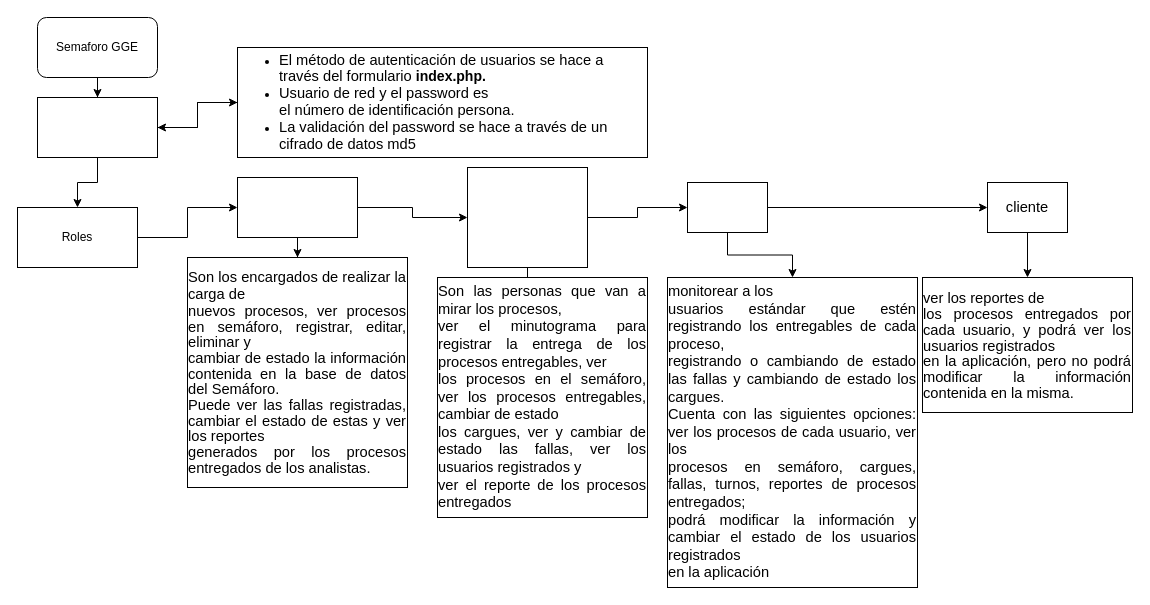
This 1150x605 diagram has some shape labels left out. Here are the shapes that lost their labels. From the top down, the centre of each, then its label:
At (97,127): "Autenticacion de Usuarios".
At (297,207): "Administrador y Analista 2".
At (527,217): "A1_7x24_1, A1_7x24_2, A1_7x24_3, A1_Alicia_C, A1_Jefferson".
At (727,207): "Gerencia".
